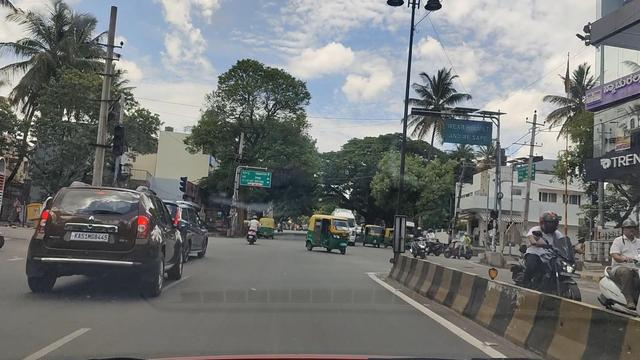LMV: (26, 191, 183, 306)
